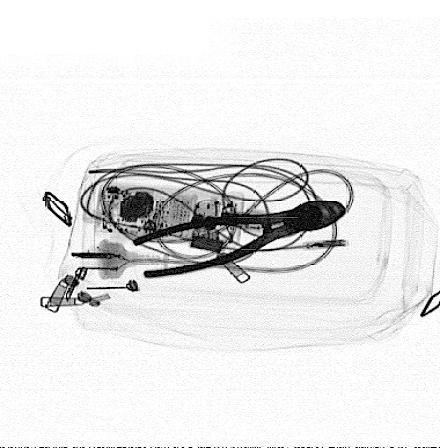Pliers: (129, 198, 352, 282)
